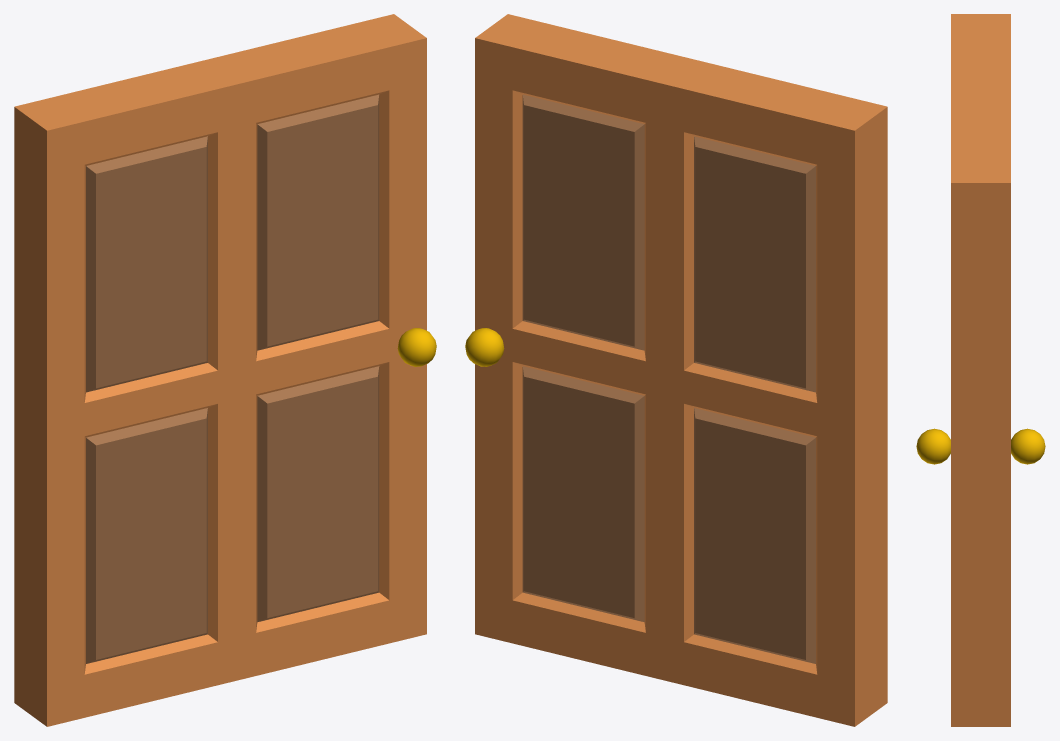
The model's file is Door 1.fbx.
3 views of the same model, side by side, from view 1: azimuth 30°, elevation 25°; view 2: azimuth 150°, elevation 25°; view 3: azimuth 270°, elevation 25° (orthographic). The views are drawn at different scales.
Parts seen in each view (by area): view 1: Das Door; view 2: Das Door; view 3: Das Door.
Part boxes in pixels (x1,y1,x2,y2): Das Door: [14, 14, 436, 726]; Das Door: [465, 14, 887, 726]; Das Door: [916, 14, 1045, 726].
Bounding box in the file's own units: 100 × 32.26 × 150.
